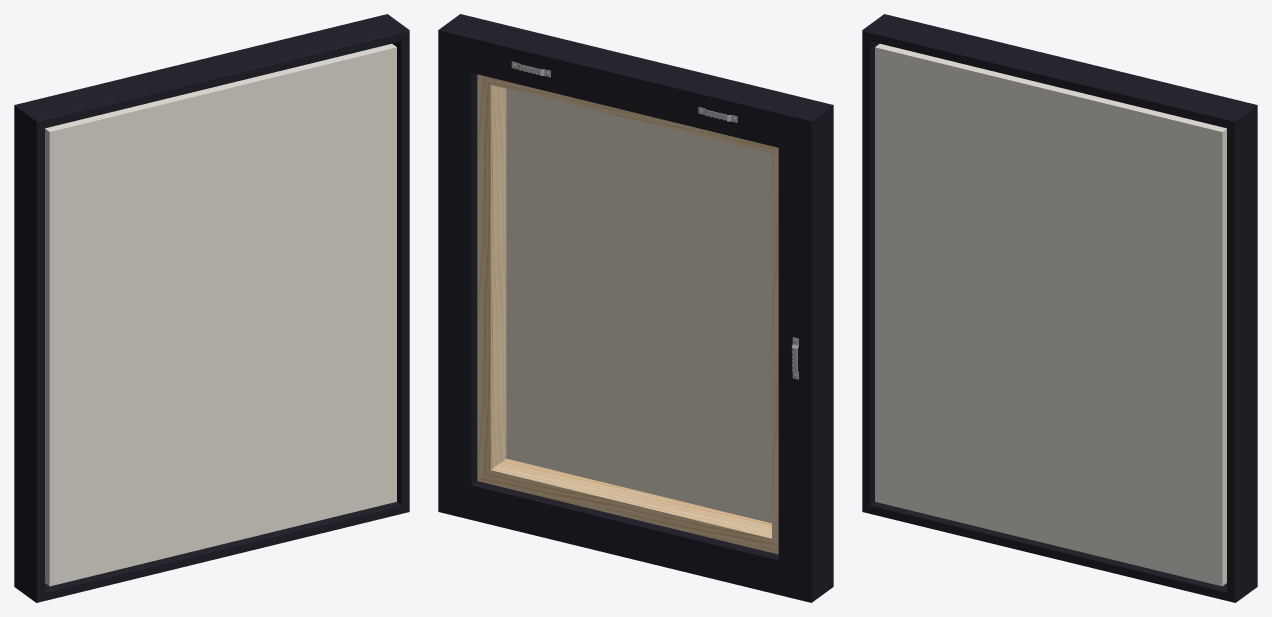
Rendered from delivery.glb.
3 renders of one model, left to right at view 1: azimuth 30°, elevation 25°; view 2: azimuth 150°, elevation 25°; view 3: azimuth 330°, elevation 25°, orthographic.
Visible parts, largest first — view 1: Canvas artwork front, Tray approved profile 0; view 2: Canvas linen reverse, Tray approved profile 0, Stretcher top, Sawtooth hanger 0; view 3: Canvas artwork front, Tray approved profile 0.
Part boxes in pixels (bbox=[...]): Canvas artwork front: bbox=[45, 44, 396, 586]; Tray approved profile 0: bbox=[14, 14, 409, 602]; Canvas linen reverse: bbox=[506, 88, 771, 523]; Tray approved profile 0: bbox=[438, 14, 833, 602]; Stretcher top: bbox=[477, 74, 778, 554]; Sawtooth hanger 0: bbox=[511, 61, 798, 379]; Canvas artwork front: bbox=[875, 44, 1226, 586]; Tray approved profile 0: bbox=[862, 14, 1257, 602].
Bounding box in the file's own units: 0.43 × 0.53 × 0.0474.
Materials: 7 (2 with a texture image).
